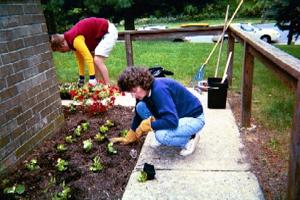person: (107, 66, 205, 157)
